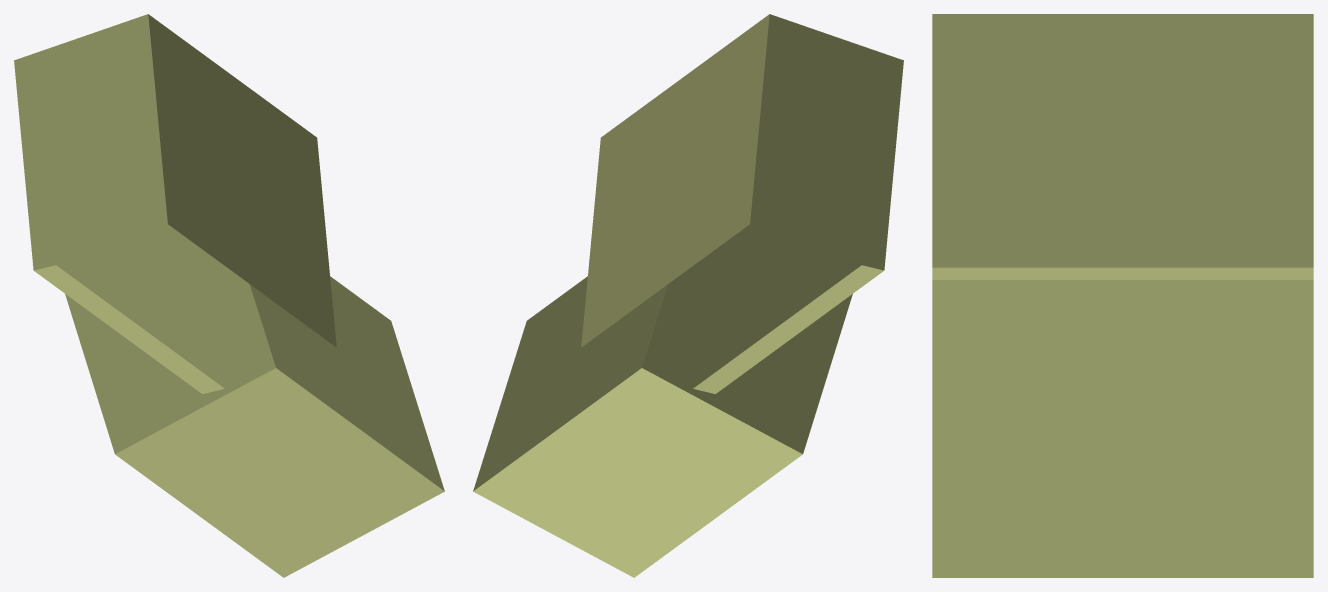
3 views of the same model, side by side, from view 1: azimuth 30°, elevation 25°; view 2: azimuth 150°, elevation 25°; view 3: azimuth 270°, elevation 25° (orthographic). The views are drawn at different scales.
Visible parts, largest first — view 1: 0_1_0_0_1_0_1_3_3_1; view 2: 0_1_0_0_1_0_1_3_3_1; view 3: 0_1_0_0_1_0_1_3_3_1.
Part boxes in pixels (x1,y1,x2,y2): 0_1_0_0_1_0_1_3_3_1: (14, 14, 444, 577); 0_1_0_0_1_0_1_3_3_1: (473, 14, 903, 577); 0_1_0_0_1_0_1_3_3_1: (932, 14, 1313, 577).
Bounding box in the file's own units: 8.06 × 12.71 × 9.
